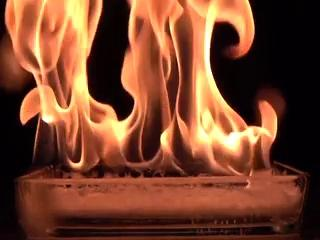Fire: (26, 1, 287, 181)
